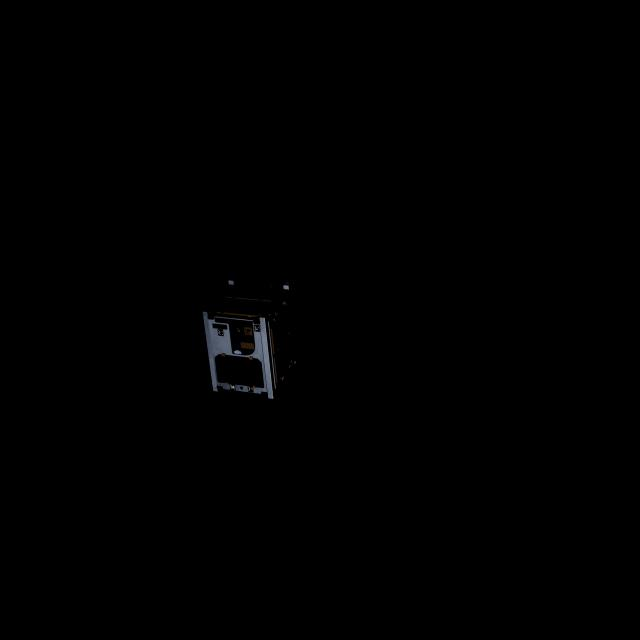satellite: (196, 275, 309, 398)
